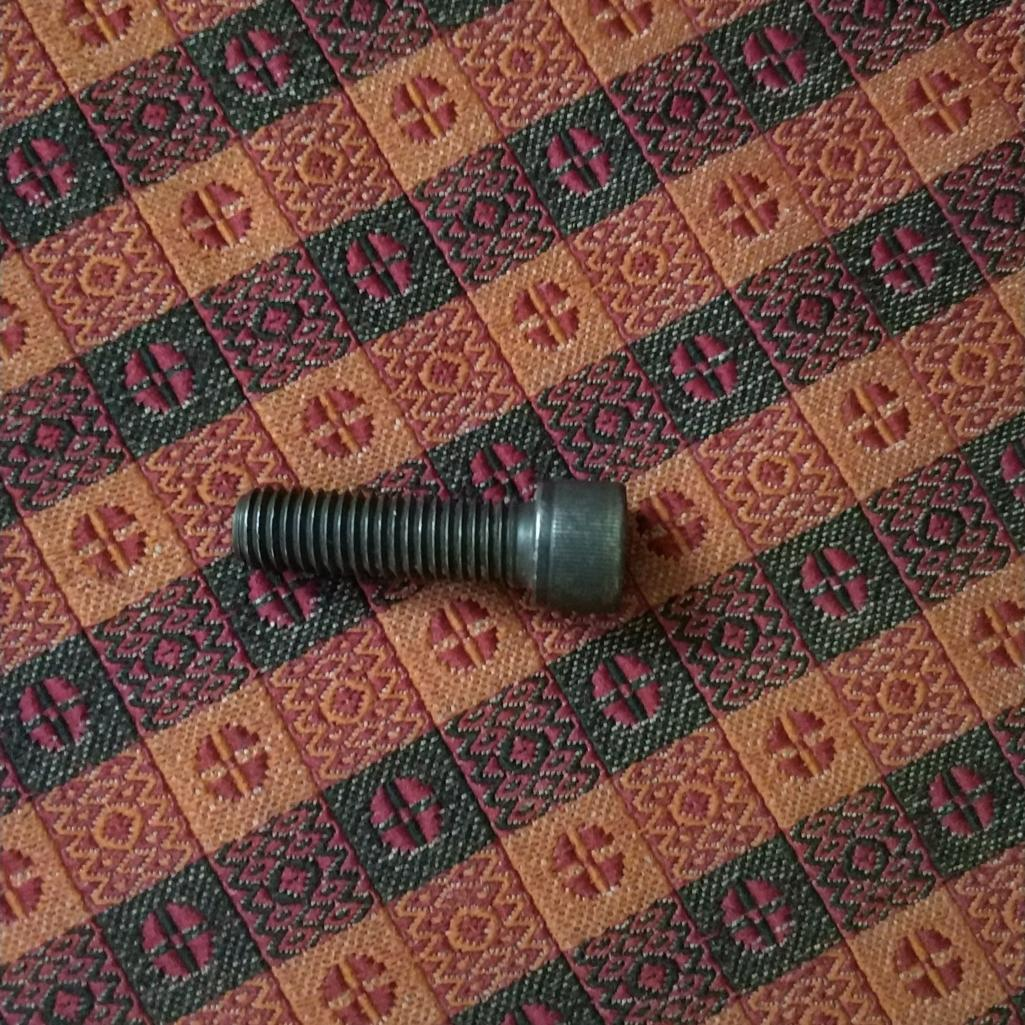screwtype1black: (223, 453, 626, 647)
